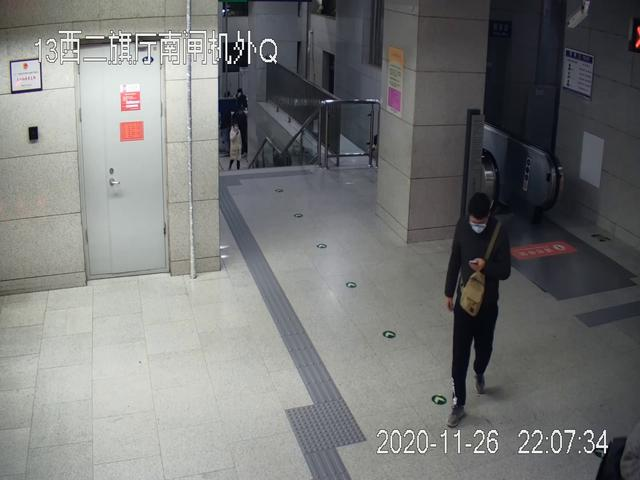person: (444, 192, 512, 428)
